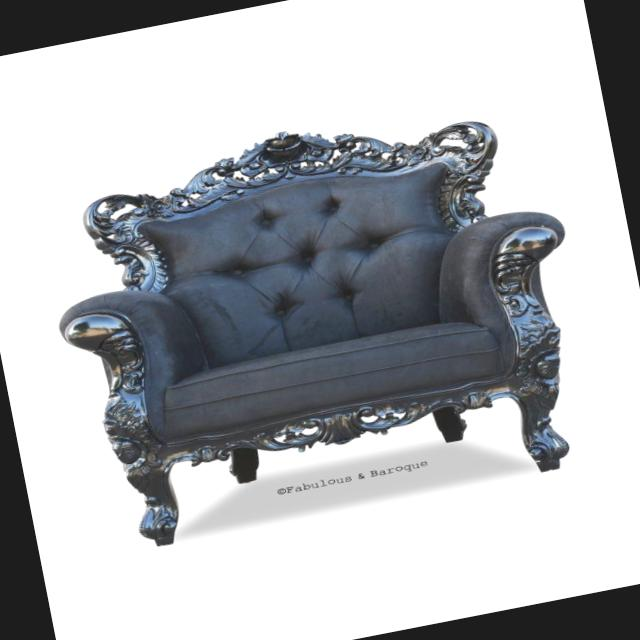obstacle: (11, 40, 640, 582)
